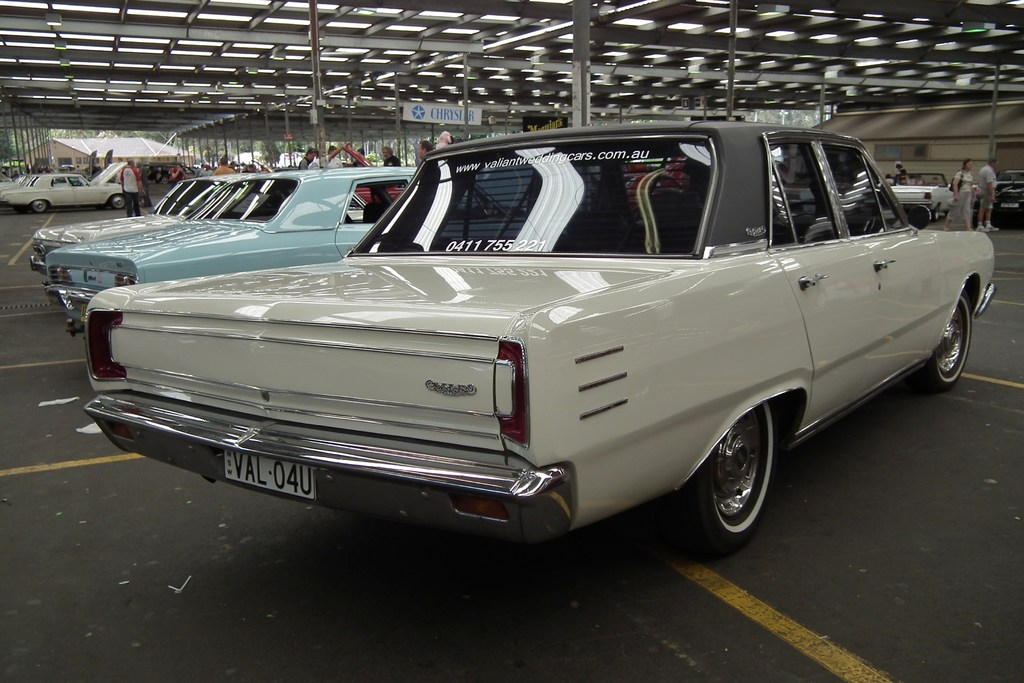Car: (82, 120, 999, 551), (41, 162, 520, 339), (30, 172, 368, 274), (1, 159, 125, 208), (882, 166, 954, 229), (991, 167, 1023, 214), (2, 170, 67, 188)
